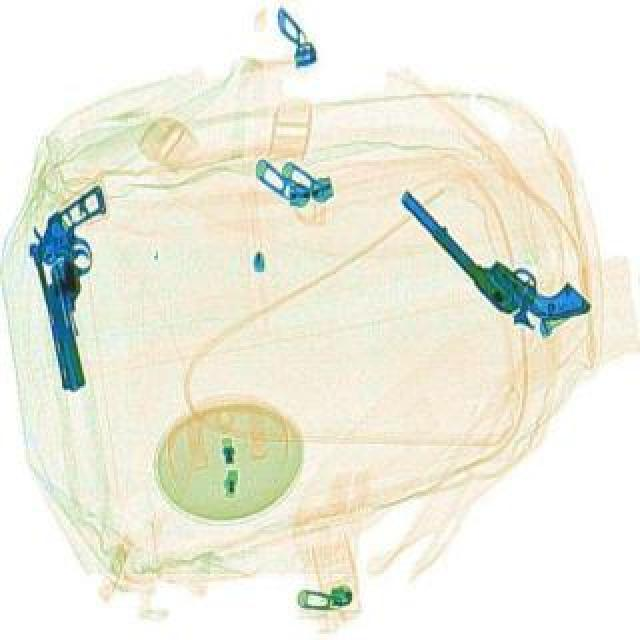gun: (396, 150, 592, 352), (16, 184, 140, 392)
